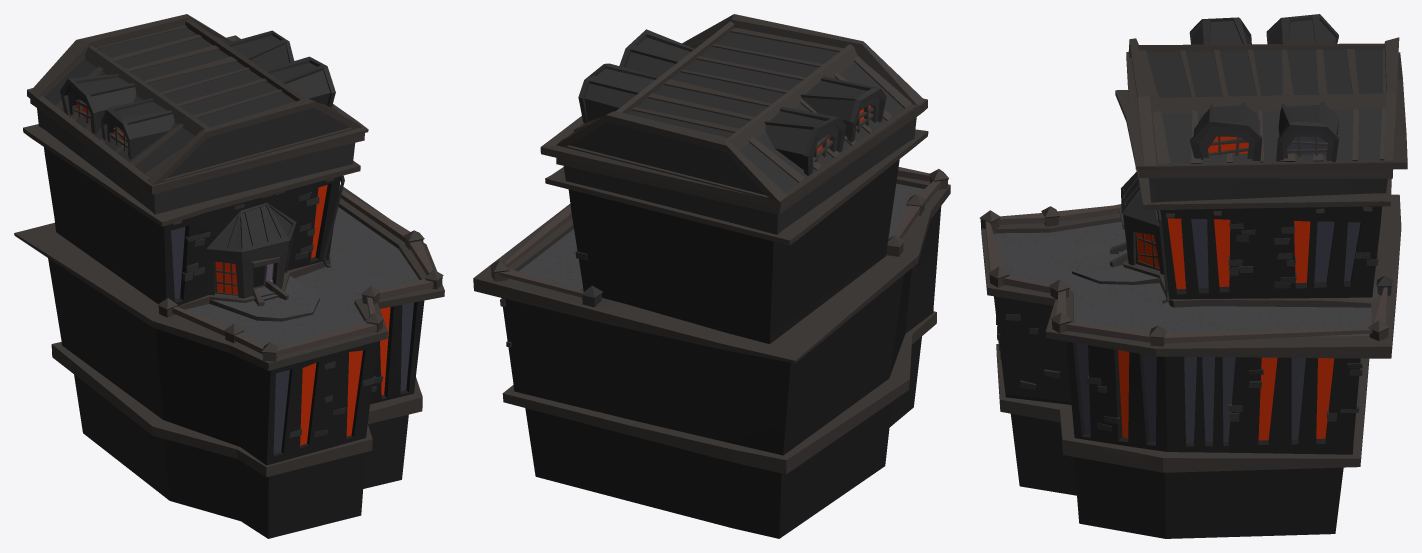
File: Hecks_Kitchen_Tile_TieredDisc_01.fbx
3 renders of one model, left to right at view 1: azimuth 30°, elevation 25°; view 2: azimuth 150°, elevation 25°; view 3: azimuth 270°, elevation 25°, orthographic. The views are drawn at different scales.
Parts seen in each view (by area): view 1: Hecks_Kitchen_Tile_TieredDisc_01; view 2: Hecks_Kitchen_Tile_TieredDisc_01; view 3: Hecks_Kitchen_Tile_TieredDisc_01.
Part boxes in pixels (x1,y1,x2,y2): Hecks_Kitchen_Tile_TieredDisc_01: (14, 14, 444, 538); Hecks_Kitchen_Tile_TieredDisc_01: (473, 14, 950, 538); Hecks_Kitchen_Tile_TieredDisc_01: (979, 14, 1407, 538).
Bounding box in the file's own units: 26.37 × 31.58 × 30.93.
2 materials, 1 textured.
